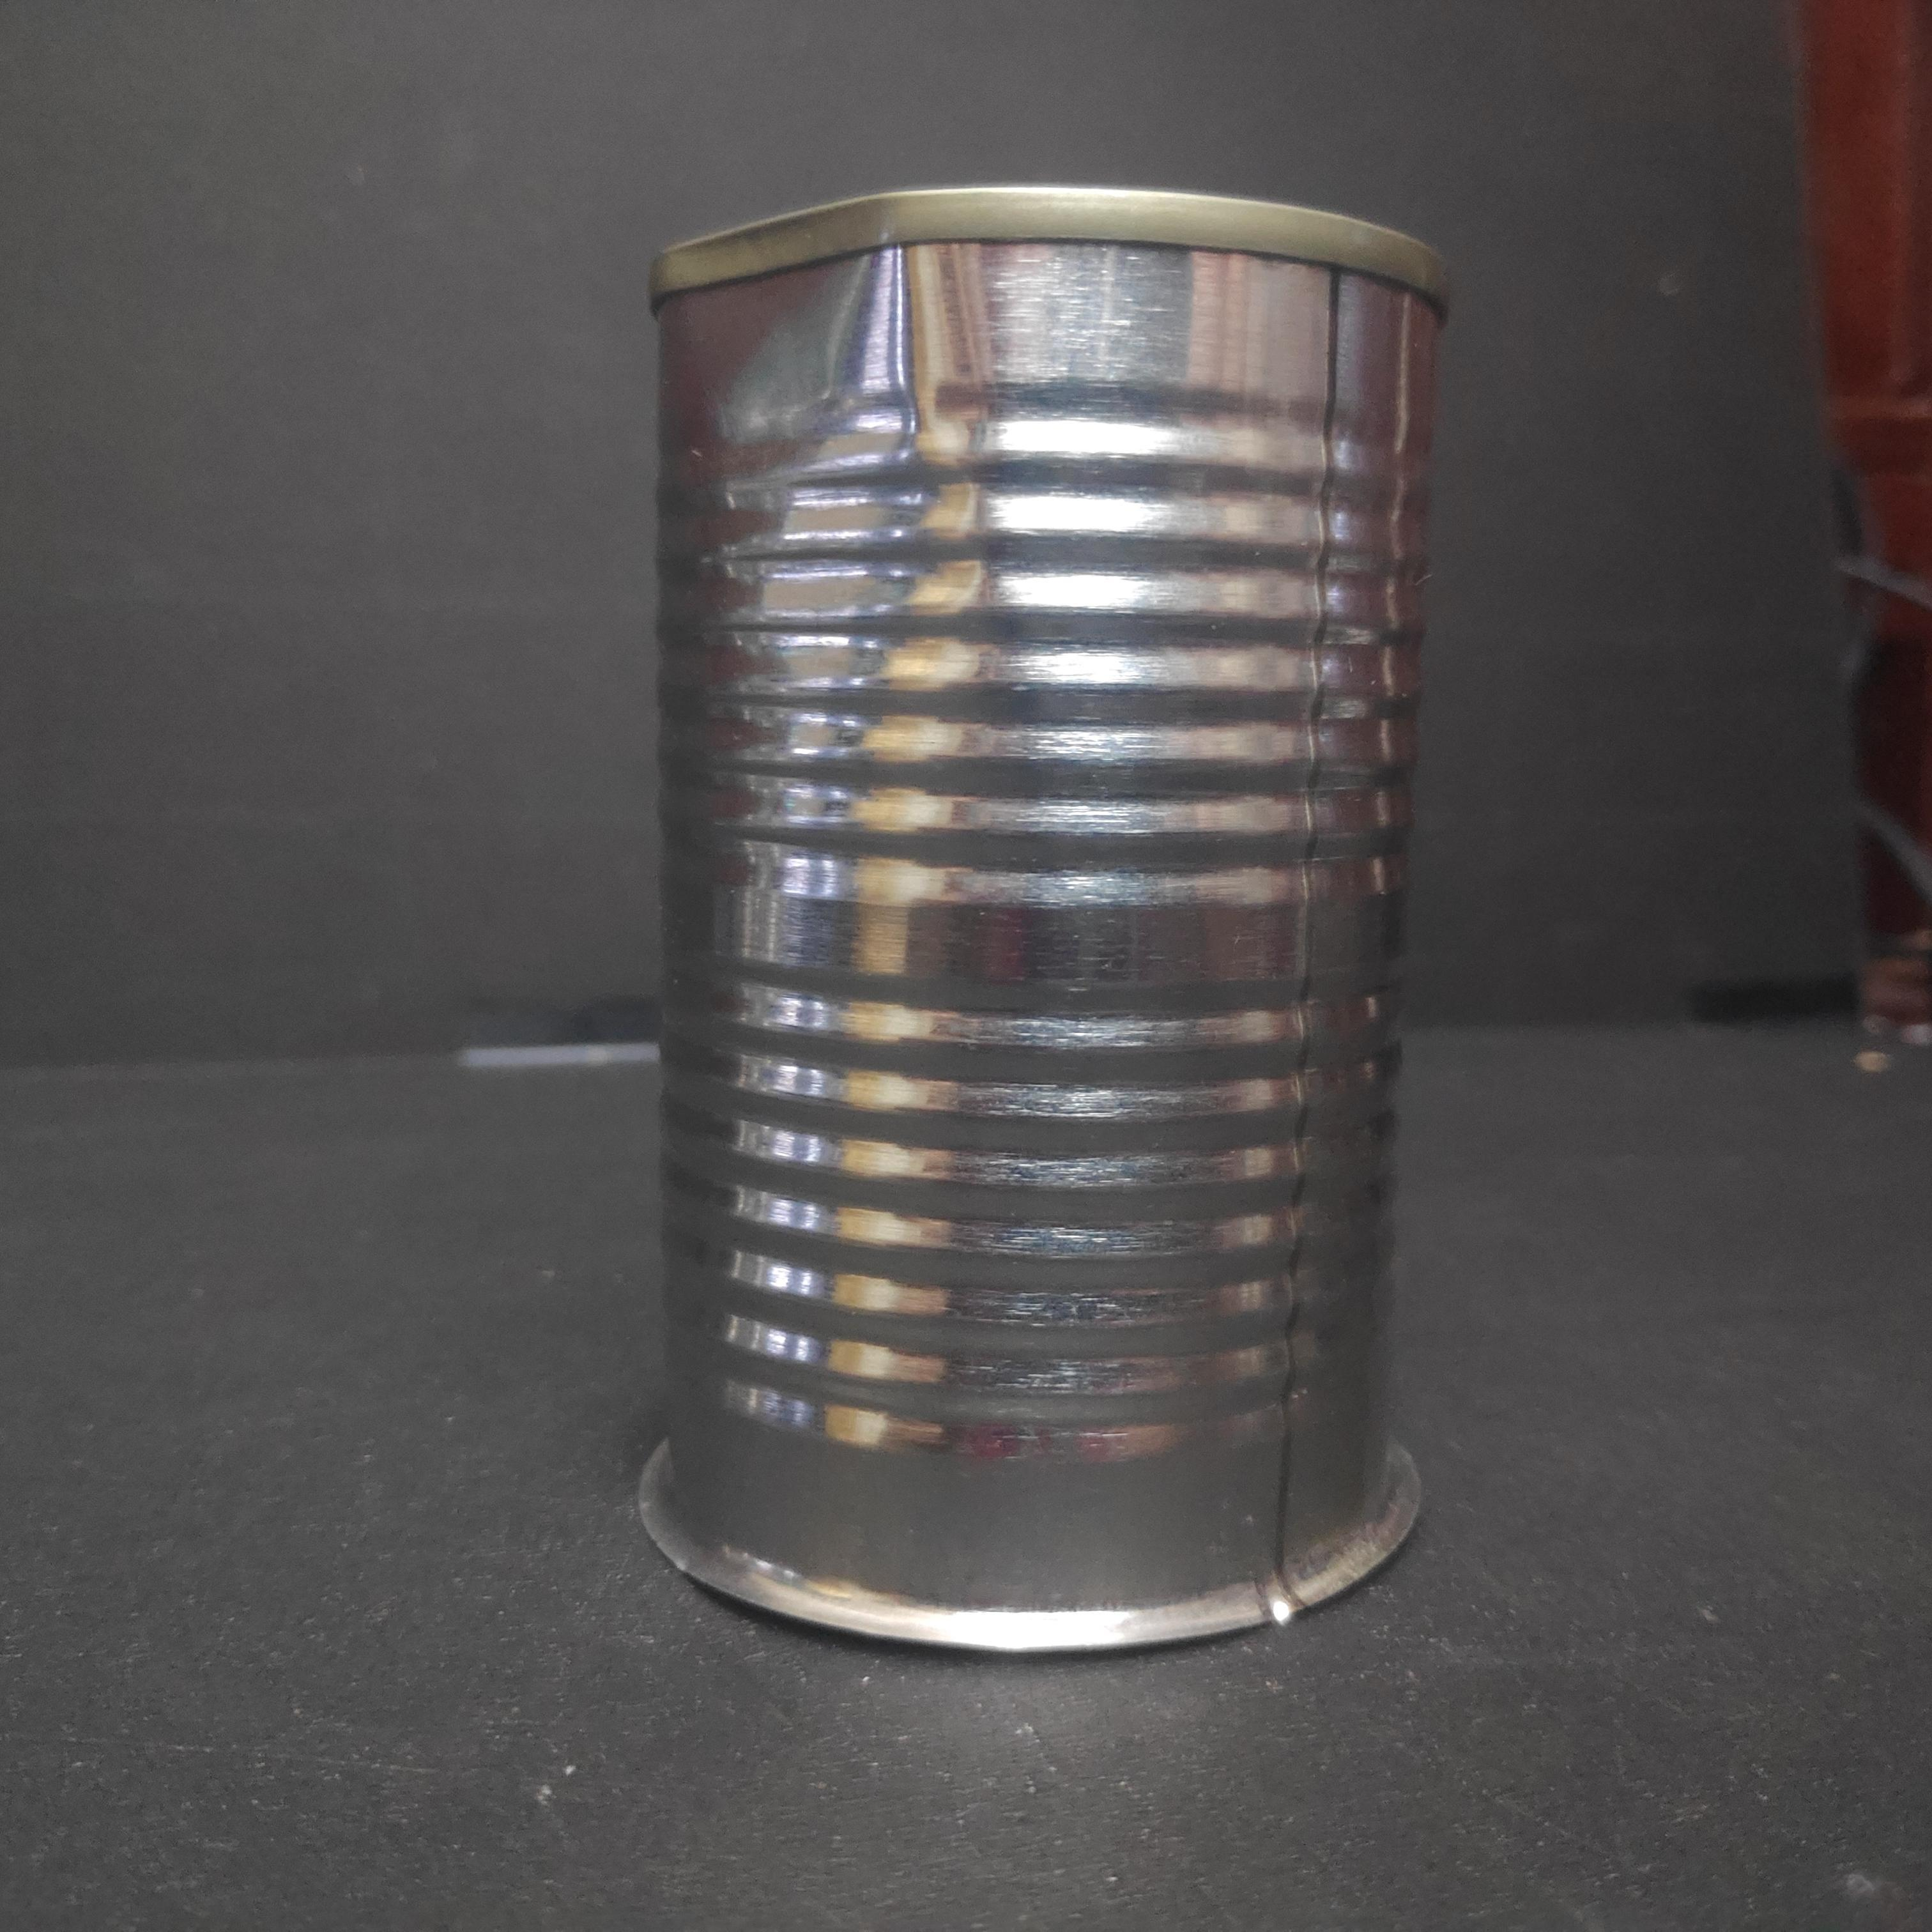Dented: (623, 163, 1476, 1686)
